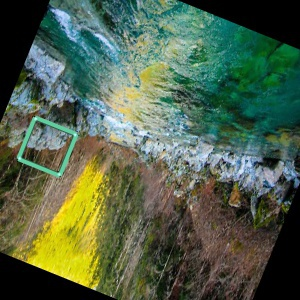square: (14, 113, 80, 180)
